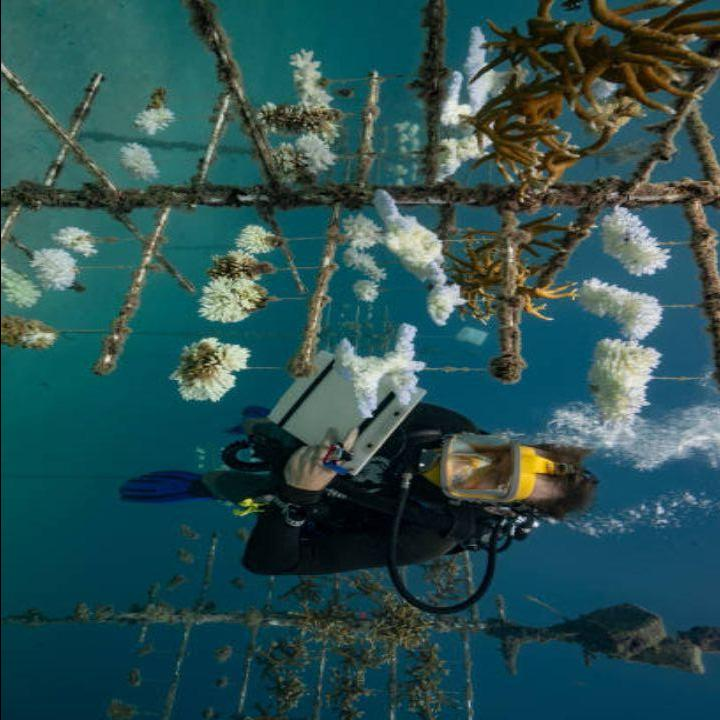Bleached-diseasemultiple-Health: (310, 182, 485, 353), (418, 22, 520, 190), (240, 46, 357, 191), (575, 274, 669, 426), (193, 218, 281, 331), (0, 222, 108, 311), (586, 200, 676, 292), (165, 329, 251, 414), (76, 130, 161, 183), (122, 85, 181, 142), (61, 97, 92, 138), (292, 134, 334, 160)
